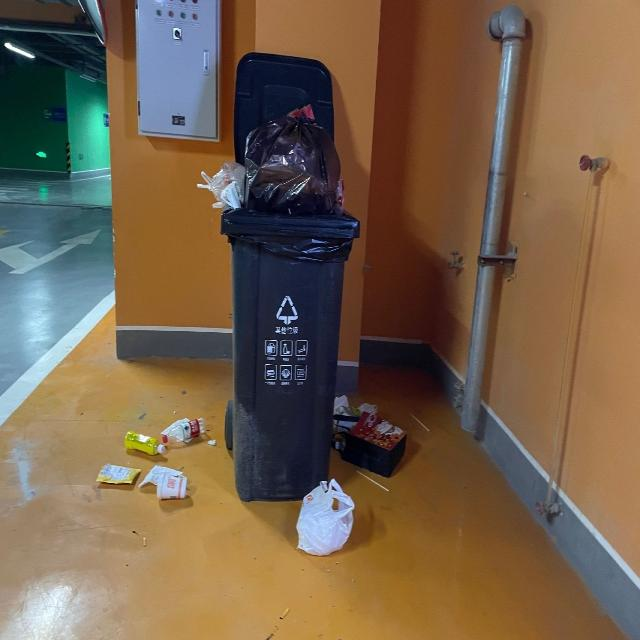garbage: (294, 394, 429, 556), (94, 414, 216, 499)
overflow: (194, 103, 360, 500)
